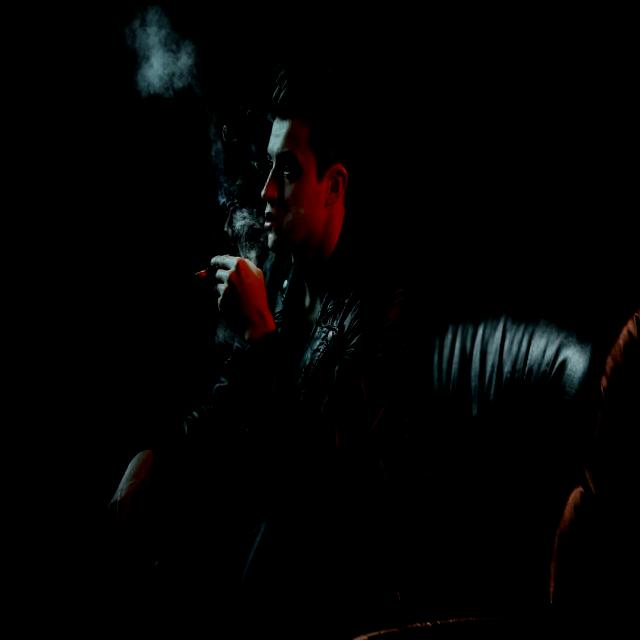smoke: (188, 242, 228, 291)
